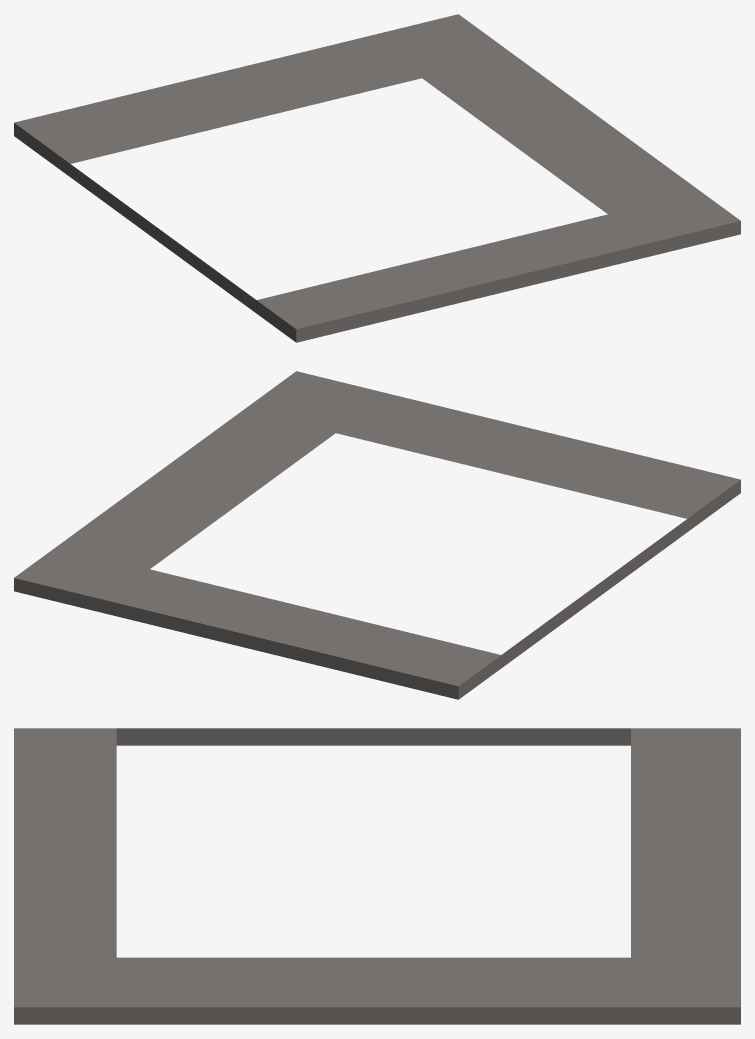
File: CouloirComble_SolHaut.fbx
The picture shows the model from 3 angles, top to bottom: view 1: azimuth 30°, elevation 25°; view 2: azimuth 150°, elevation 25°; view 3: azimuth 270°, elevation 25°; orthographic projection. The views are drawn at different scales.
Parts seen in each view (by area): view 1: SolHaut; view 2: SolHaut; view 3: SolHaut.
Part boxes in pixels (left/top/right/bottom): SolHaut: left=14, top=14, right=740, bottom=342; SolHaut: left=14, top=371, right=740, bottom=699; SolHaut: left=14, top=728, right=740, bottom=1024.
Size of the model in its own units: 18.67 by 0.5404 by 20.55.
